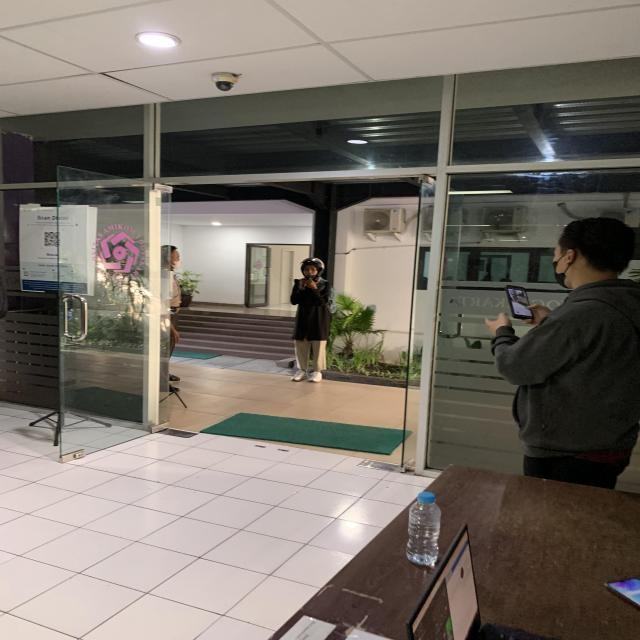hairnet: (292, 258, 340, 289)
